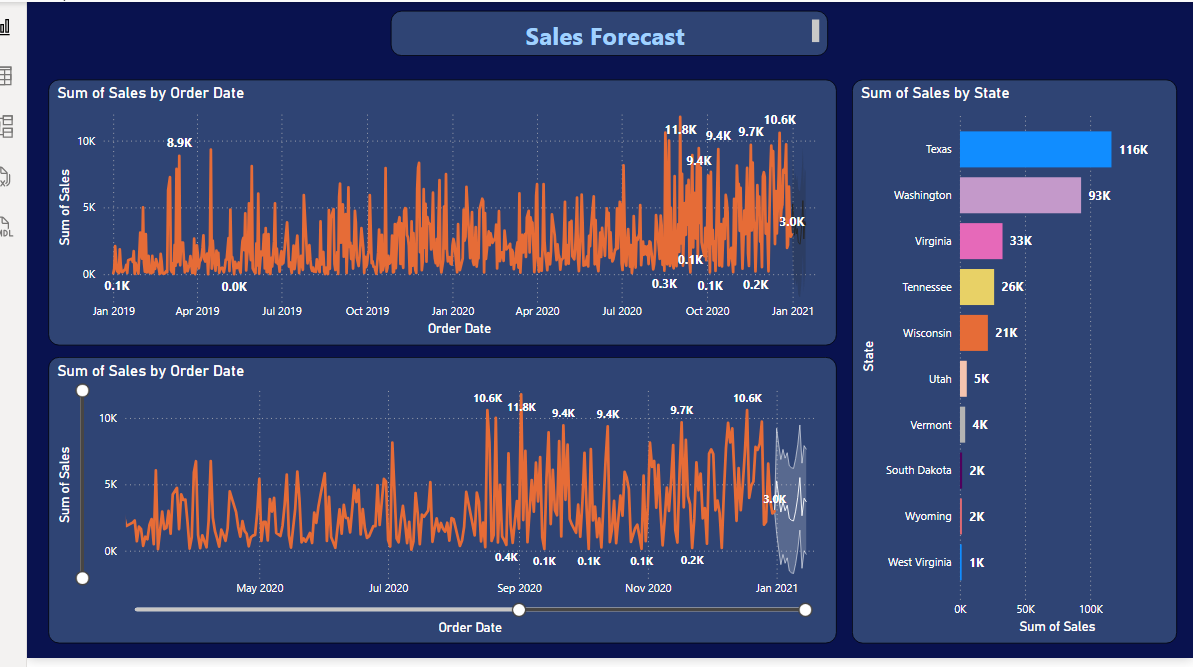

Layout of this report page (visuals, bound fields, positions):
{"tool":"powerbi","page":{"name":"Sales Forecast","canvas":[1280,720],"ordinal":1},"visuals":[{"type":"lineChart","fields":{"Y":["Sum(SuperStore_Sales_Dataset.Sales)"],"Category":["SuperStore_Sales_Dataset.Order Date"]},"box":[23.3,85.1,865.9,292.3],"z":0},{"type":"lineChart","fields":{"Y":["Sum(SuperStore_Sales_Dataset.Sales)"],"Category":["SuperStore_Sales_Dataset.Order Date"]},"box":[23.3,389.7,865.9,314.2],"z":1000},{"type":"barChart","fields":{"Category":["SuperStore_Sales_Dataset.State"],"Y":["Sum(SuperStore_Sales_Dataset.Sales)"]},"box":[905.7,85.1,356.8,618.9],"z":2000},{"type":"textbox","box":[399.3,9.6,480.3,49.4],"z":3000}]}

Visuals, with their boxes on the page's 1280x720 design canvas (x1, y1, x2, y2). These are canvas units, not pixel positions in the 1193x667 screenshot, which may show the page scaled, cropped or inside an application window:
lineChart - Sum(SuperStore_Sales_Dataset.Sales) x SuperStore_Sales_Dataset.Order Date: <region>23, 85, 889, 377</region>
lineChart - Sum(SuperStore_Sales_Dataset.Sales) x SuperStore_Sales_Dataset.Order Date: <region>23, 390, 889, 704</region>
barChart - SuperStore_Sales_Dataset.State x Sum(SuperStore_Sales_Dataset.Sales): <region>906, 85, 1262, 704</region>
textbox: <region>399, 10, 880, 59</region>
